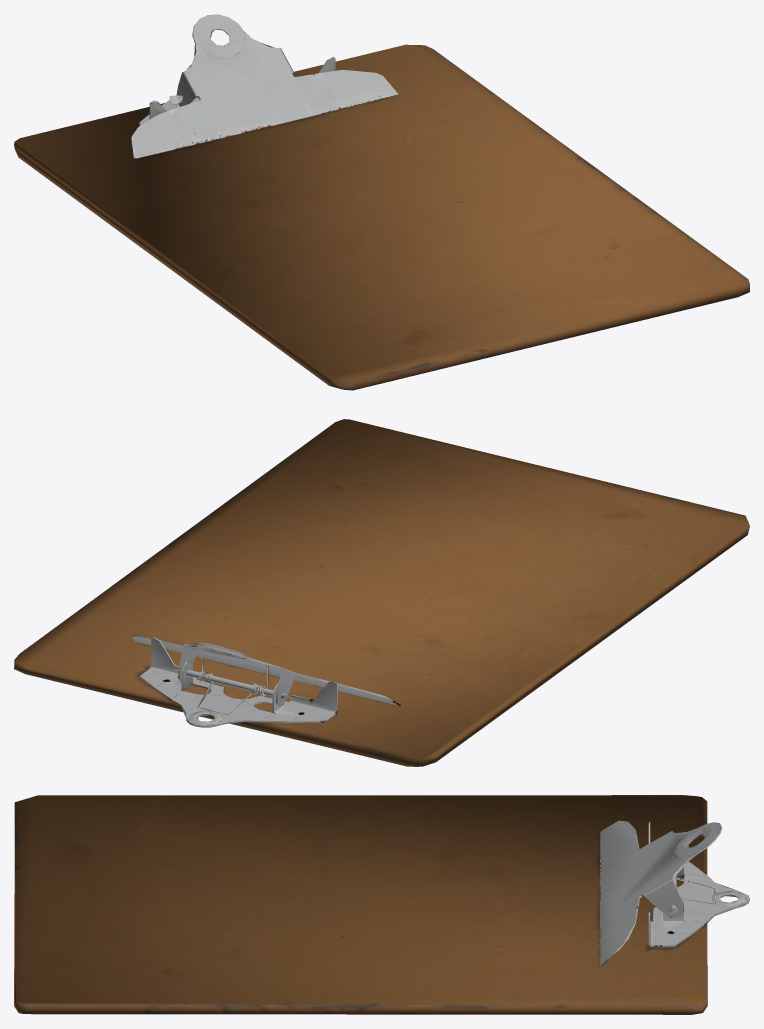
Rendered from clipboard.glb.
3 renders of one model, top to bottom at view 1: azimuth 30°, elevation 25°; view 2: azimuth 150°, elevation 25°; view 3: azimuth 270°, elevation 25°, orthographic. The views are drawn at different scales.
Visible parts, largest first — view 1: clipboard; view 2: clipboard; view 3: clipboard.
Part boxes in pixels (x1,y1,x2,y2): clipboard: (14, 14, 749, 390); clipboard: (14, 419, 749, 766); clipboard: (14, 795, 749, 1014).
Bounding box in the file's own units: 0.2279 × 0.0417 × 0.3362.
1 material, 1 textured.
